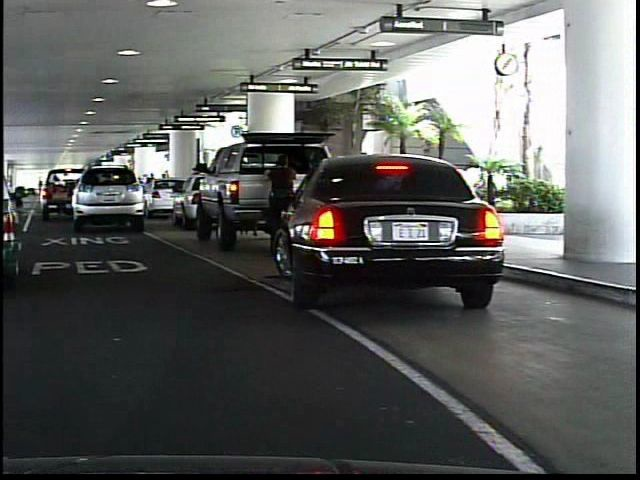person: (257, 150, 307, 253)
